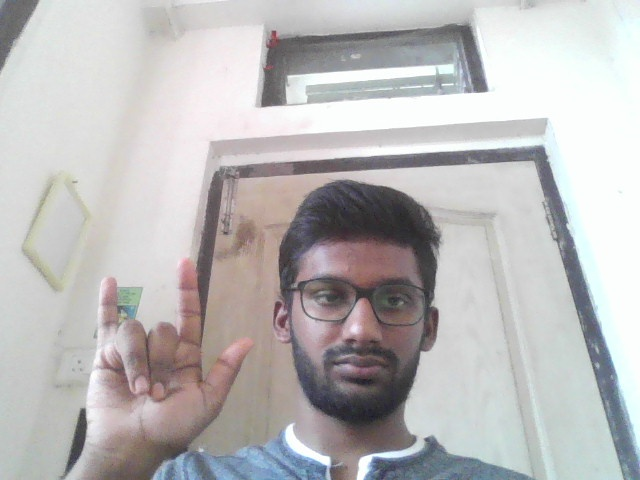I Love You: (57, 254, 256, 455)
